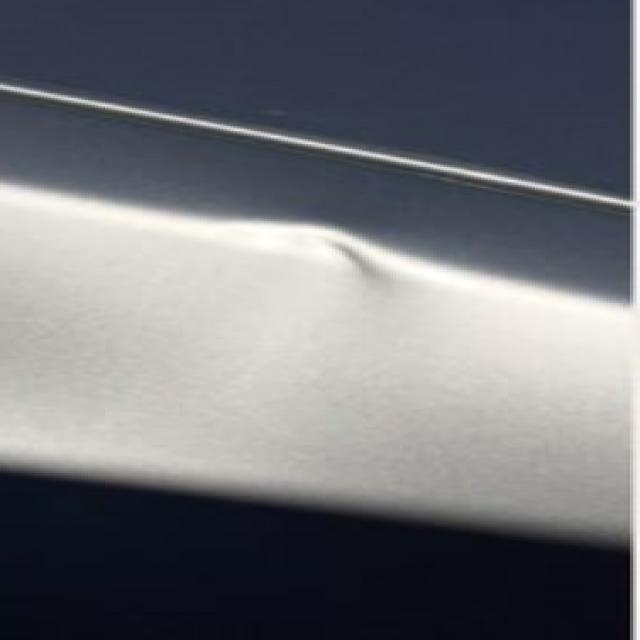dents: (253, 202, 459, 323)
